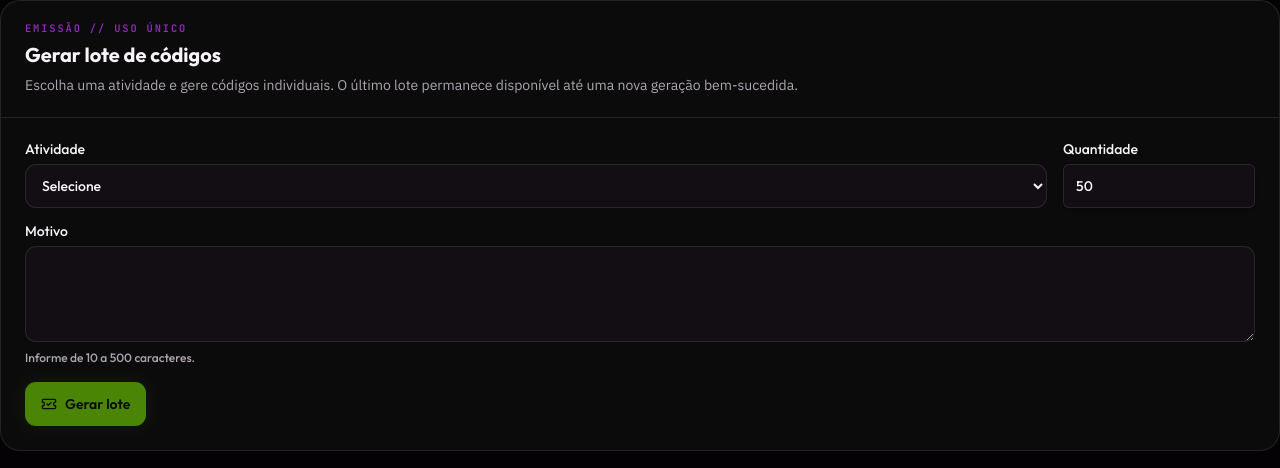
Test: ClaimCodeGenerator › limpa o motivo ao mudar de atividade
This screenshot has width=1280, height=468.
Select "Check-in — 10 PTS" in the dropdown labelled "Atividade" at (536, 186), box x1=25 y1=164 x2=1047 y2=208
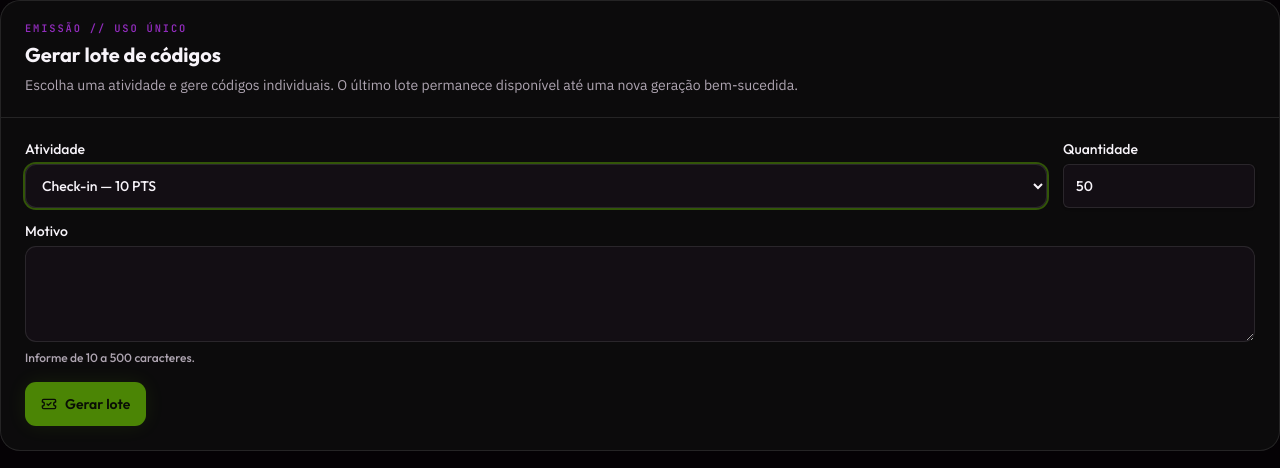
Type "Lote para check-in" into the text box labelled "Motivo".
click(640, 294); type("Lote para check-in")  # box x1=25 y1=246 x2=1255 y2=342
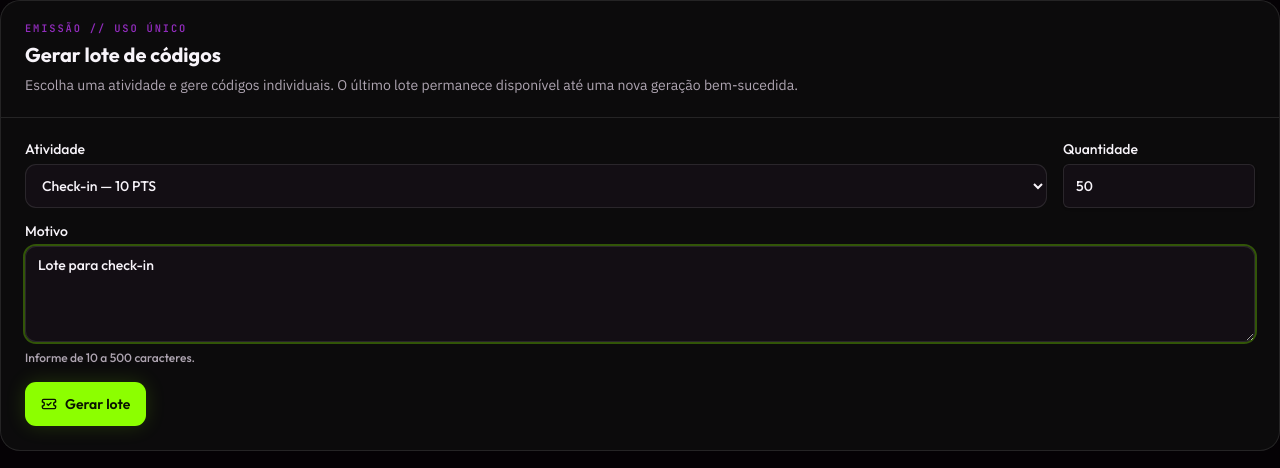
Select "Palestra — 20 PTS" in the dropdown labelled "Atividade" at (536, 186), box x1=25 y1=164 x2=1047 y2=208
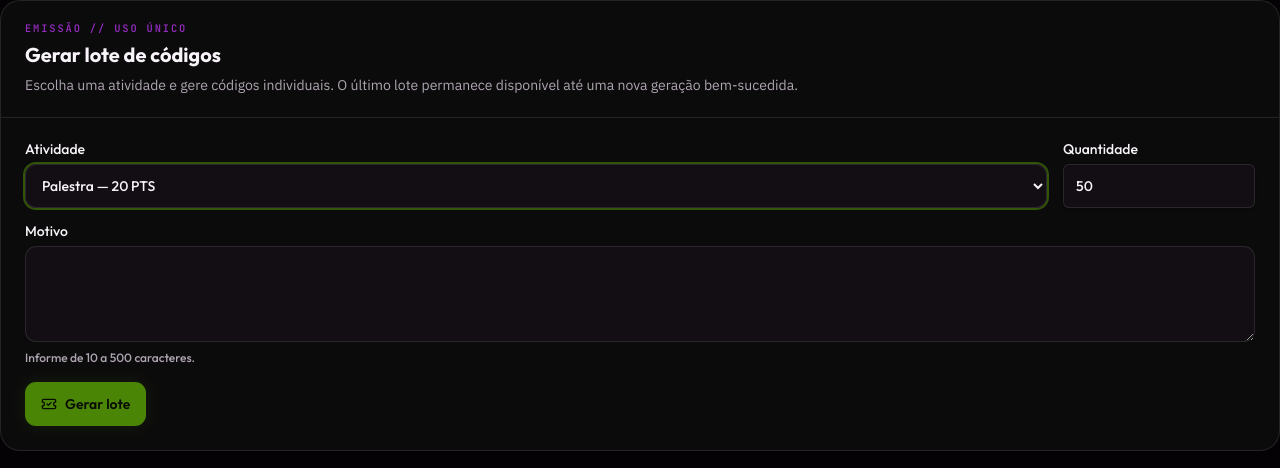
Now the text box labelled "Motivo" is empty, box x1=25 y1=246 x2=1255 y2=342
Now the button "Gerar lote" is disabled, box x1=25 y1=382 x2=146 y2=426
